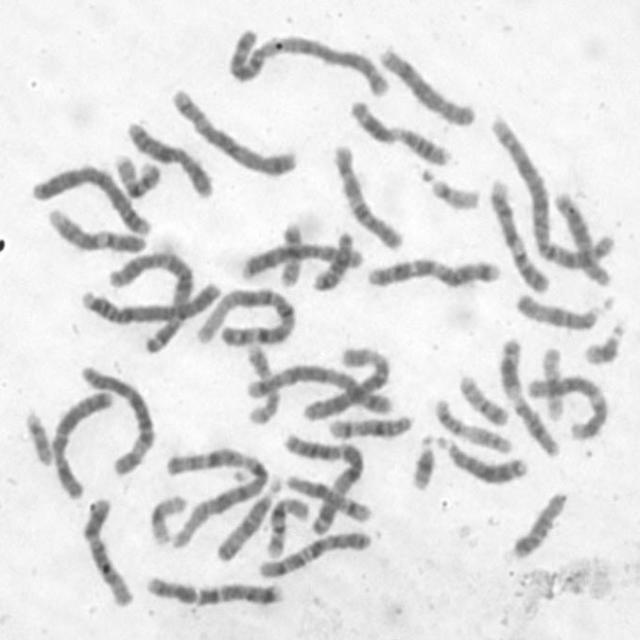A1: (160, 438, 274, 552), (191, 279, 298, 348)
A2: (483, 107, 617, 278), (220, 21, 392, 98)
A3: (102, 243, 196, 354), (278, 425, 370, 529)
B4: (25, 157, 154, 238), (73, 273, 224, 327)
B5: (164, 79, 300, 178), (240, 354, 395, 417)
C10: (326, 136, 406, 252), (252, 524, 374, 580)
C11: (492, 328, 562, 459), (343, 92, 454, 166)
C12: (75, 490, 135, 609), (522, 368, 610, 440)
C6: (73, 357, 157, 478), (296, 338, 392, 424)
C7: (139, 567, 285, 609), (360, 249, 503, 290)
C8: (374, 39, 478, 129), (236, 232, 362, 282)
C9: (483, 171, 553, 294), (42, 201, 150, 254)
D13: (544, 192, 610, 292), (431, 429, 529, 486)
D14: (276, 468, 373, 524), (321, 406, 415, 442)
D15: (210, 473, 283, 564), (508, 283, 610, 332)
E16: (260, 489, 312, 558), (106, 146, 162, 200)
E17: (428, 390, 514, 455), (240, 338, 282, 427)
E18: (504, 484, 570, 562), (306, 224, 356, 294)
F19: (144, 488, 189, 547), (536, 339, 566, 422)
F20: (453, 367, 510, 427), (274, 215, 305, 288)
G21: (578, 314, 628, 367), (404, 428, 438, 492)
G22: (414, 160, 482, 212), (18, 402, 55, 467)
X: (119, 112, 217, 200), (44, 382, 116, 501)
